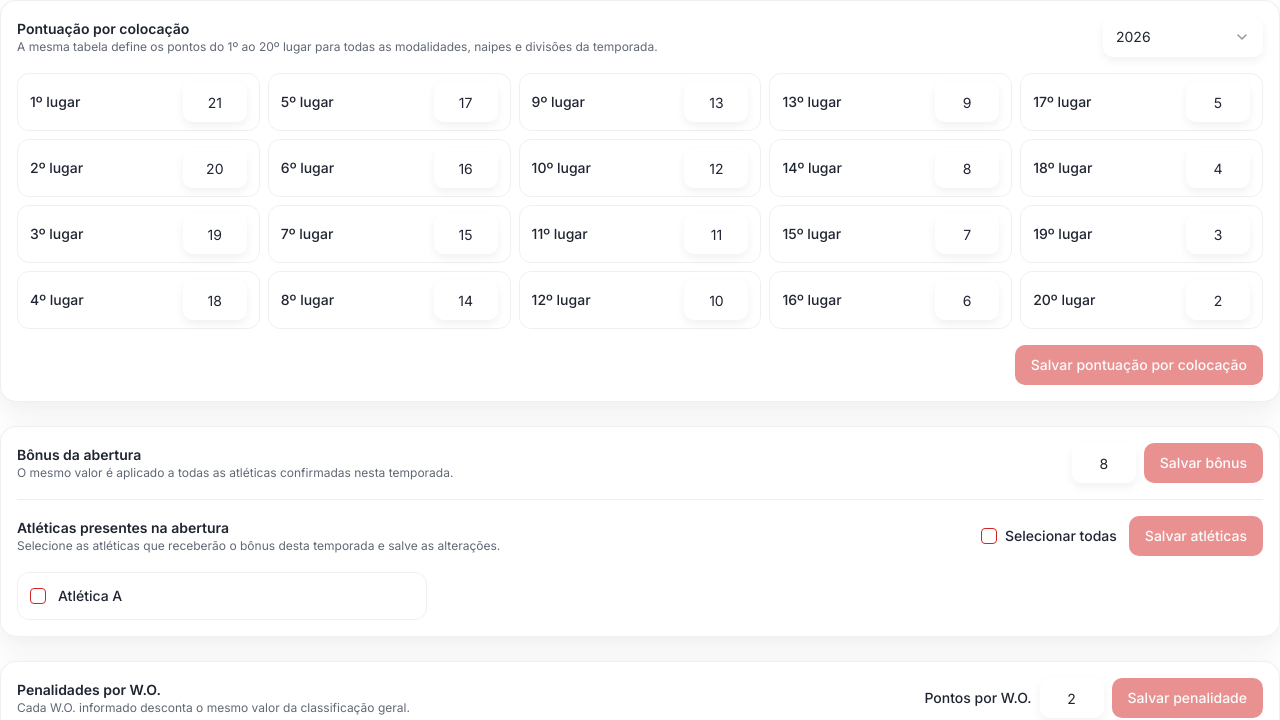
Test: AdminInterlajeOpeningCeremonyBonus › permite selecionar todas as atléticas antes de salvar
This screenshot has width=1280, height=720.
What coordinates should you click on to do the following:
click the checkbox named "Selecionar todas" next to "Selecionar todas"
I would click on:
 (989, 536)
Its box is [981, 528, 997, 544].
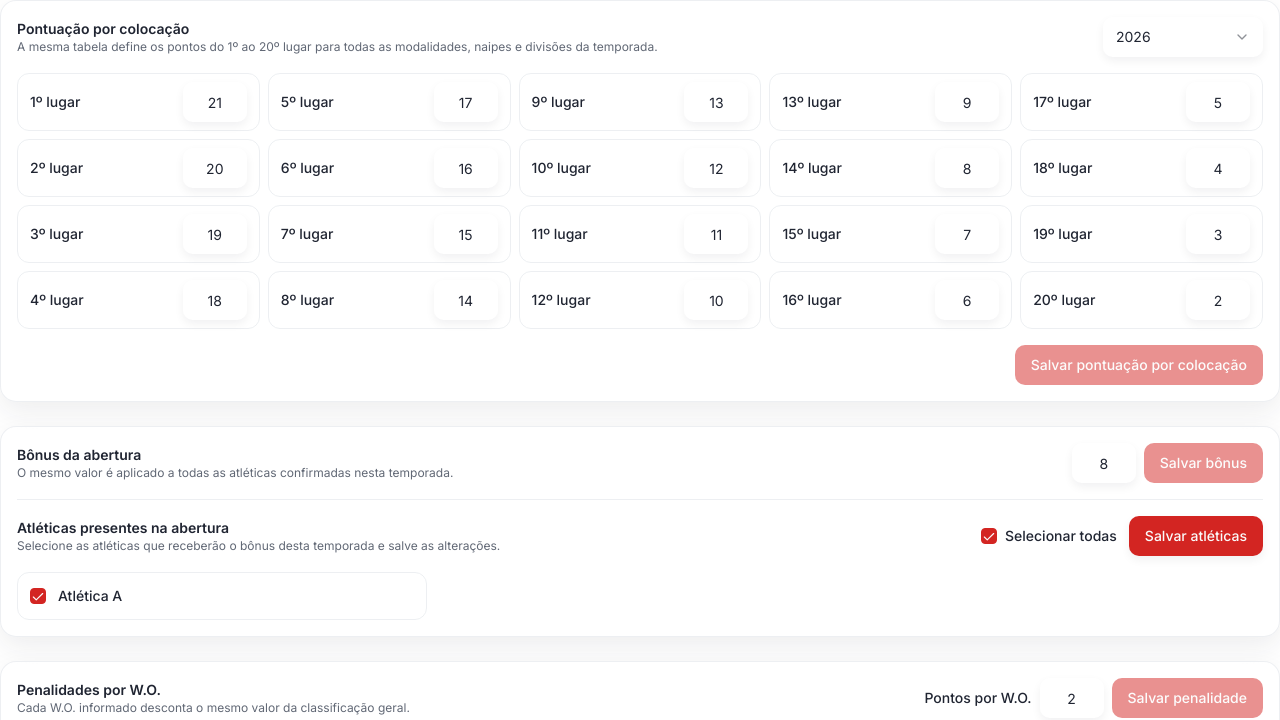
Expected: the 2nd checkbox named "Atlética A" is checked, [30, 588, 46, 604]
Expected: the button "Salvar atléticas" is enabled, [1129, 516, 1263, 556]
